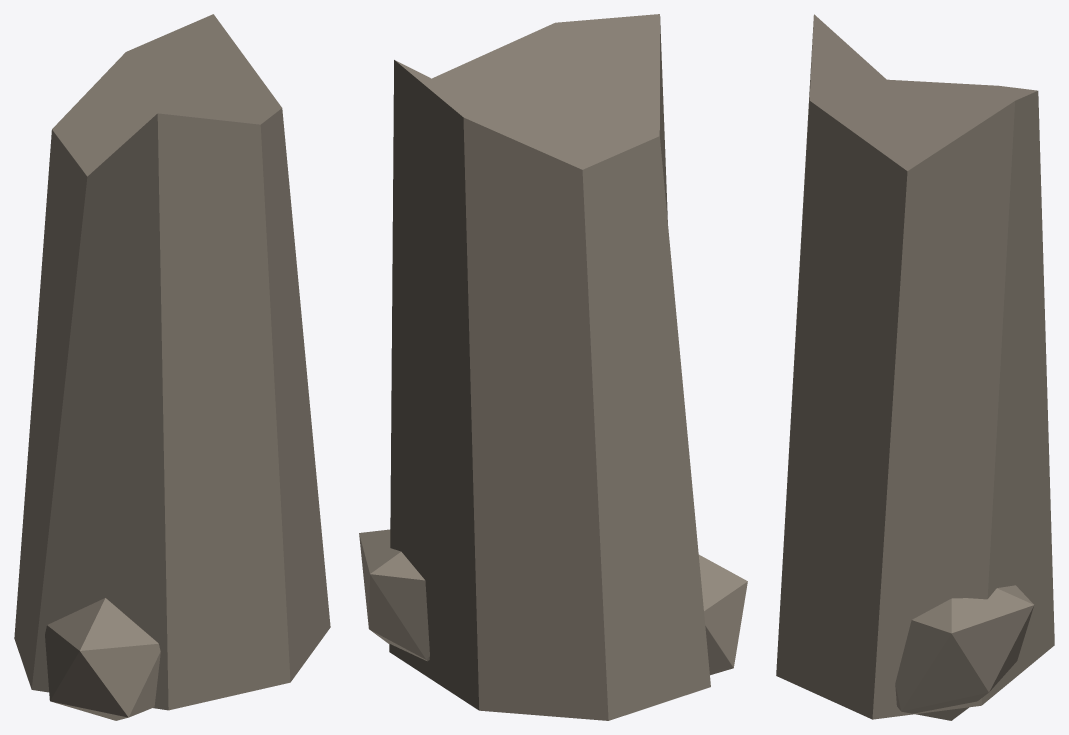
File: pillar.glb
The picture shows the model from 3 angles, left to right: view 1: azimuth 30°, elevation 25°; view 2: azimuth 150°, elevation 25°; view 3: azimuth 270°, elevation 25°; orthographic projection. The views are drawn at different scales.
Visible parts, largest first — view 1: Pillar; view 2: Pillar; view 3: Pillar.
Boxes of the visible parts, x1,y1,x2,y2 form: Pillar: (14, 14, 330, 720); Pillar: (359, 14, 747, 720); Pillar: (776, 14, 1054, 720).
Size of the model in its own units: 1.86 by 3.59 by 1.42.
